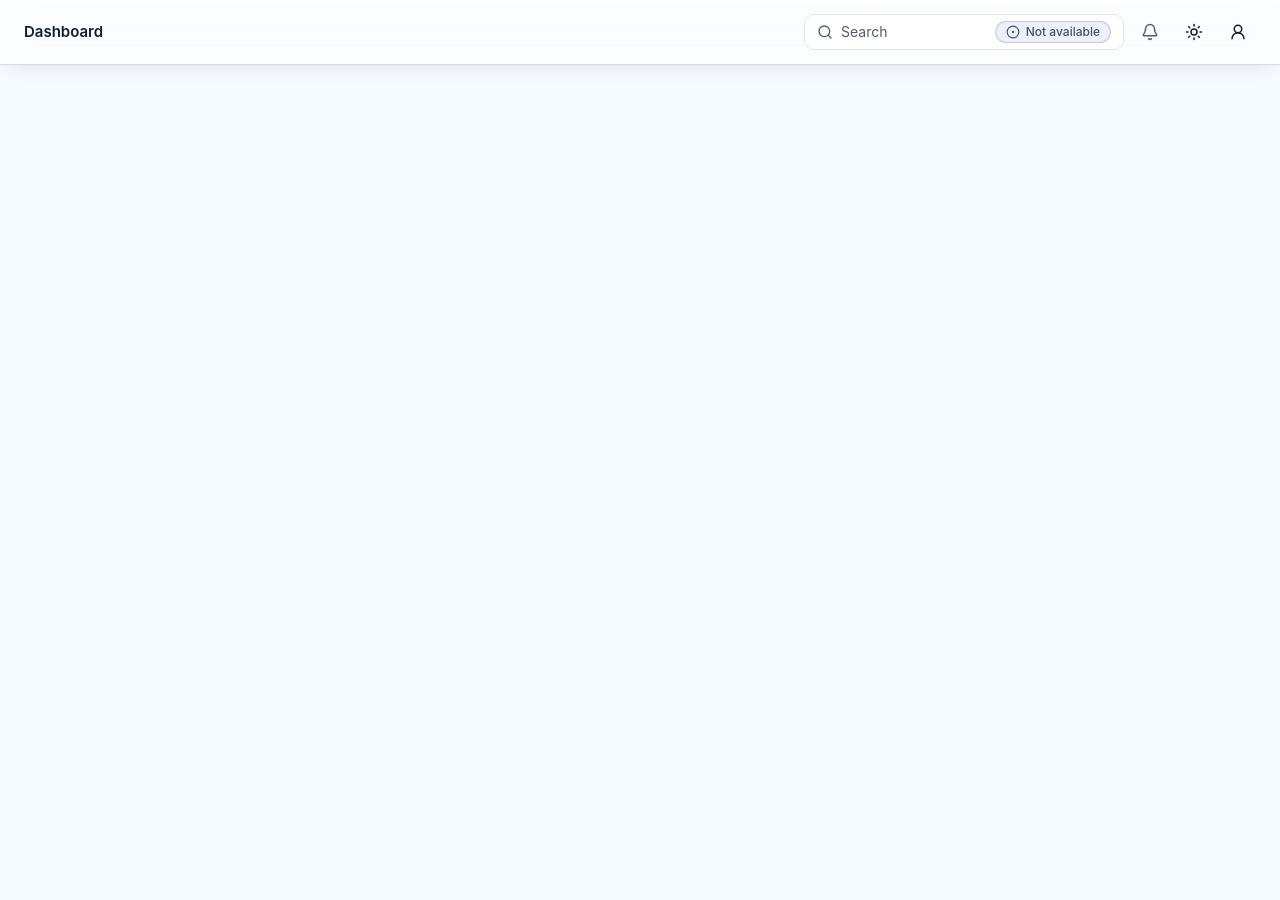
Test: top bar — unbuilt features are presented honestly › explains that search is not available when activated
The image size is (1280, 900).
What coordinates should you click on to do the following:
click the button with test id "global-search"
I would click on:
 (864, 32)
Its box is [804, 14, 1124, 50].
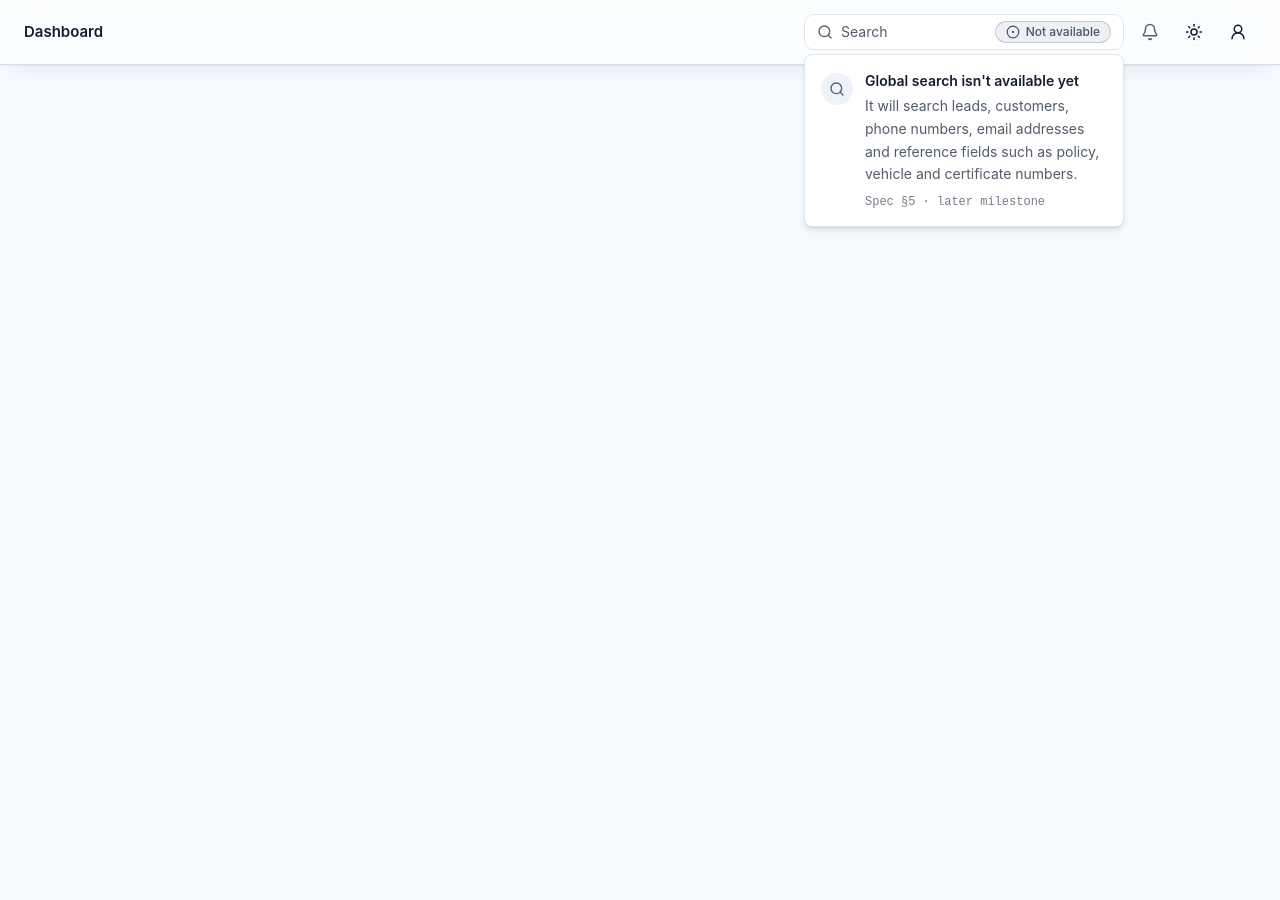
Expected: the text "Global search isn't available yet" is shown, [865, 71, 1107, 91]
